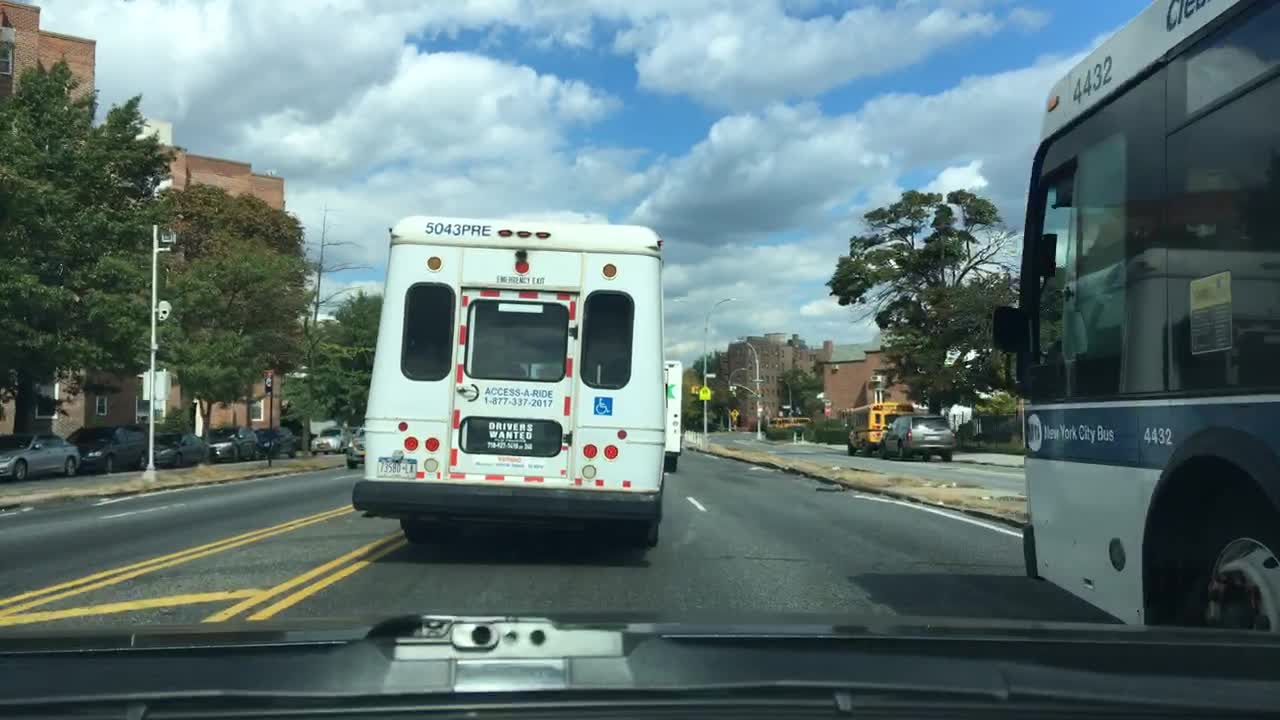bus: (994, 1, 1277, 633), (767, 415, 811, 430)
car: (0, 431, 79, 481), (67, 426, 152, 471), (840, 404, 914, 452), (880, 416, 955, 461), (152, 430, 209, 466), (202, 426, 259, 461), (257, 426, 298, 456), (309, 427, 350, 454), (346, 426, 366, 469)
traffic light: (155, 366, 173, 421), (139, 371, 148, 401)
traffic sign: (822, 399, 833, 419), (697, 386, 709, 400), (727, 409, 738, 421), (704, 370, 716, 378), (751, 378, 763, 383), (781, 404, 792, 409)
truck: (353, 213, 666, 552), (662, 359, 685, 472)
